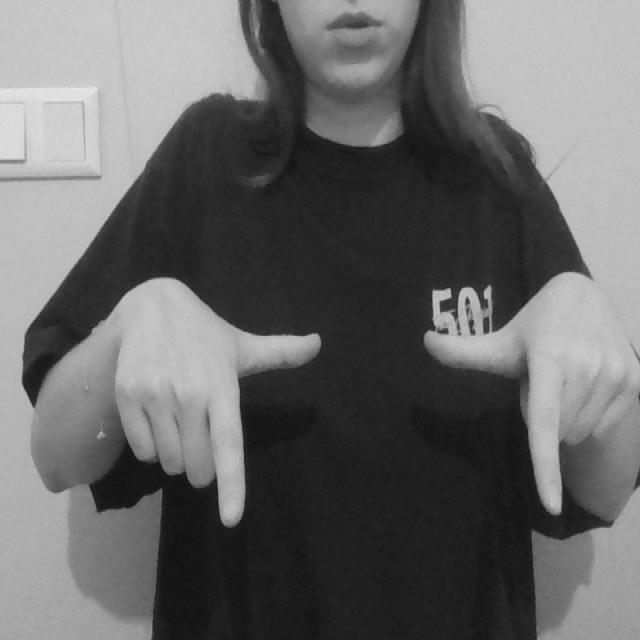Nerede: (186, 314, 573, 536)
